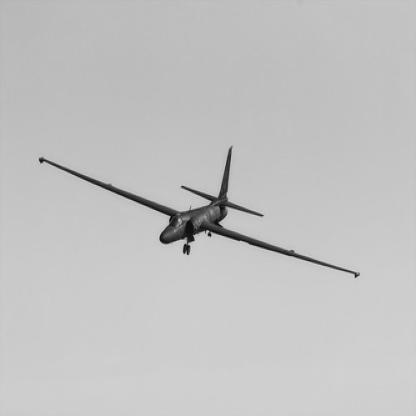U2: (38, 145, 362, 280)
